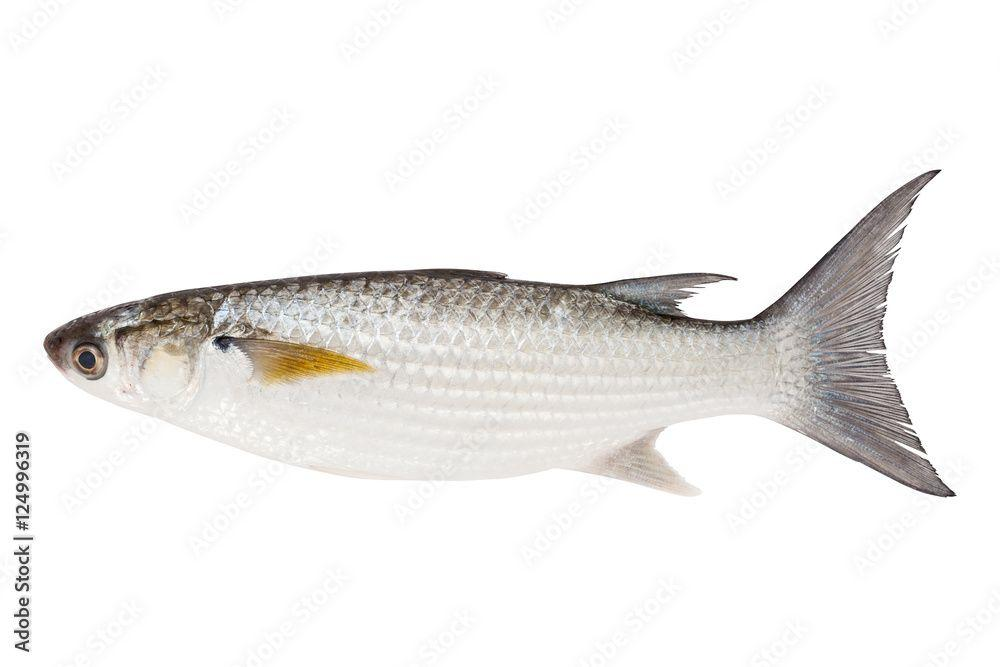Mullet: (40, 165, 957, 513)
